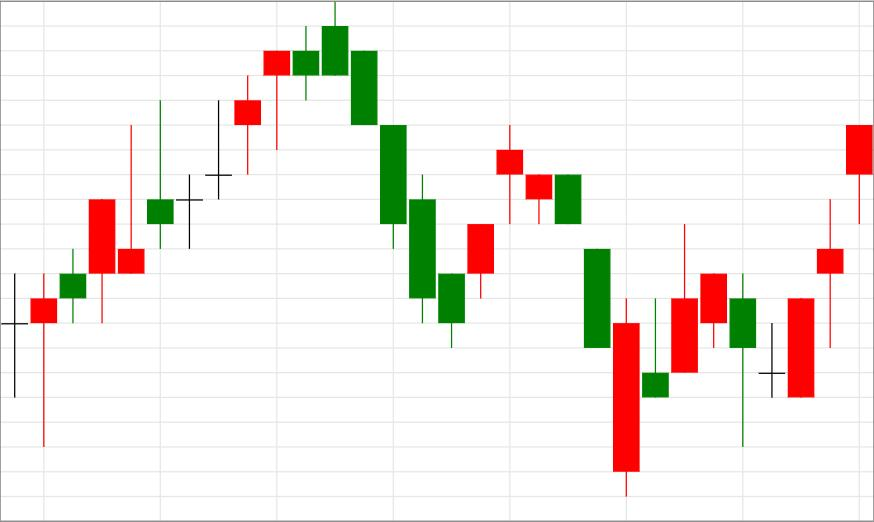three_black_crows_fall: (31, 2, 436, 446)
